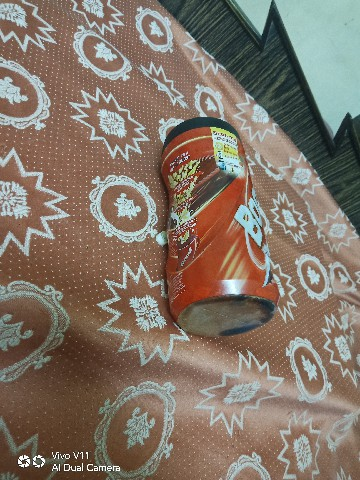boost big: (155, 100, 281, 341)
